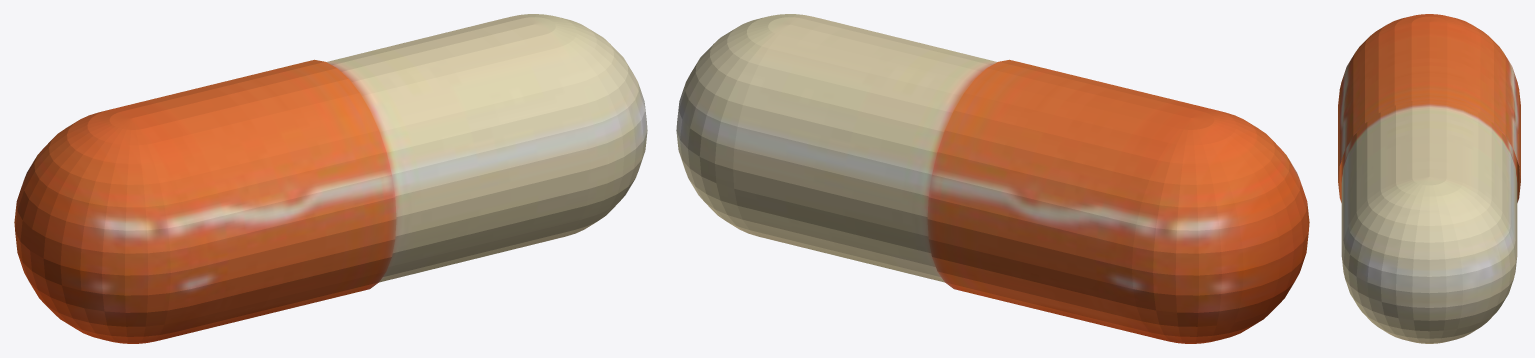
3 renders of one model, left to right at view 1: azimuth 30°, elevation 25°; view 2: azimuth 150°, elevation 25°; view 3: azimuth 270°, elevation 25°, orthographic. The views are drawn at different scales.
Parts seen in each view (by area): view 1: 球體; view 2: 球體; view 3: 球體.
Part boxes in pixels (x1,y1,x2,y2): 球體: [14, 14, 647, 343]; 球體: [676, 14, 1309, 343]; 球體: [1338, 14, 1520, 343].
Size of the model in its own units: 2.93 by 1 by 1.
